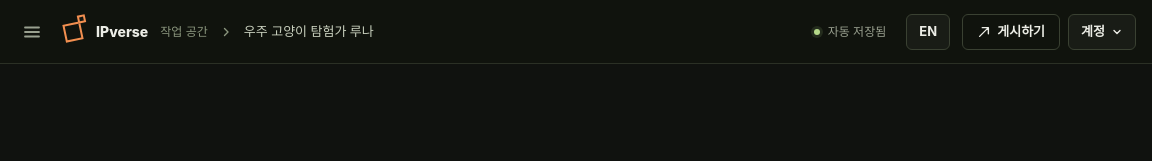
Scenario: top bar: 게시하기 stays visible, the account actions sit in one menu › opens 연결 설정 and 로그아웃 from the menu with the same handlers
Later steps or results of the test are not shown.
Click the button "계정" at [1102, 32], box [1068,14,1136,50]
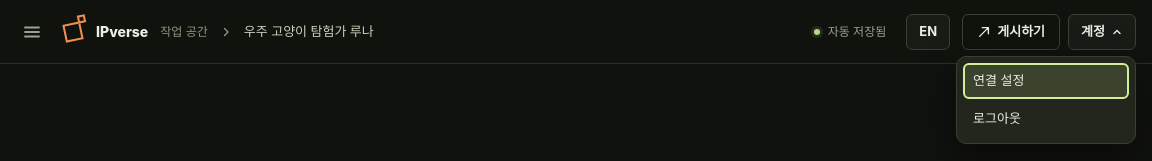
Click the menu item "연결 설정" at [1046, 80], box [963,62,1129,98]
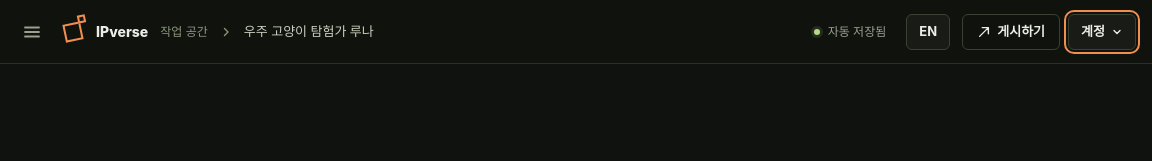
Now the menu "연결 설정 로그아웃" is gone
